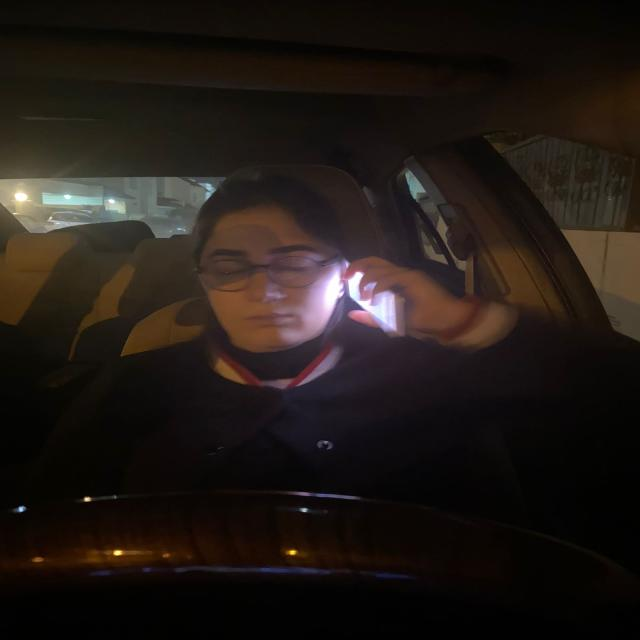phone: (342, 256, 406, 336)
